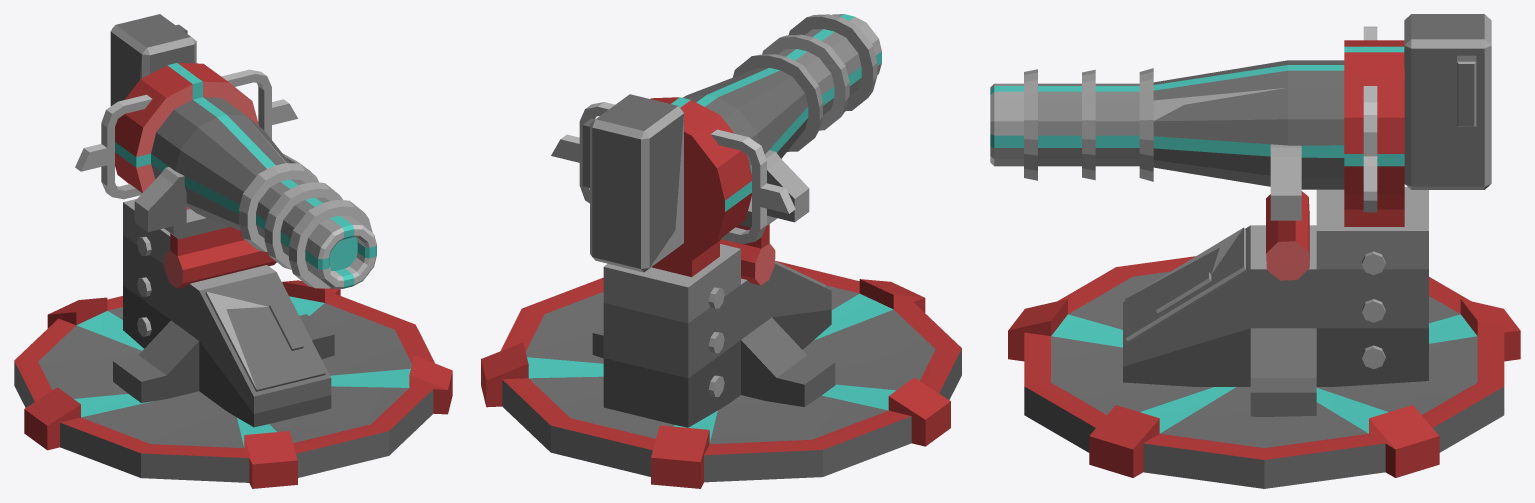
The model's file is tower_laser_red_2.fbx.
The picture shows the model from 3 angles, left to right: view 1: azimuth 30°, elevation 25°; view 2: azimuth 150°, elevation 25°; view 3: azimuth 270°, elevation 25°; orthographic projection. The views are drawn at different scales.
Parts seen in each view (by area): view 1: top_laser_red_2, tower_laser_red_2; view 2: top_laser_red_2, tower_laser_red_2; view 3: top_laser_red_2, tower_laser_red_2.
Part boxes in pixels (x1,y1,x2,y2): top_laser_red_2: (75,14,376,427); tower_laser_red_2: (14,280,452,488); top_laser_red_2: (551,14,881,427); tower_laser_red_2: (481,261,961,488); top_laser_red_2: (990,14,1491,416); tower_laser_red_2: (1008,256,1520,488).
Size of the model in its own units: 147 by 113 by 152.
